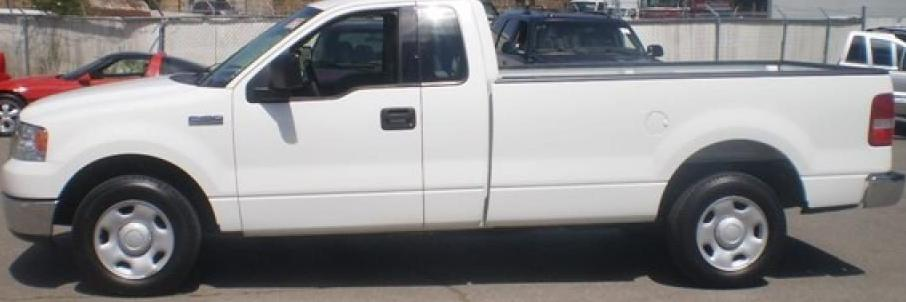backlight: (860, 86, 893, 155)
headlight: (0, 113, 59, 170)
side_glass: (237, 6, 482, 100)
